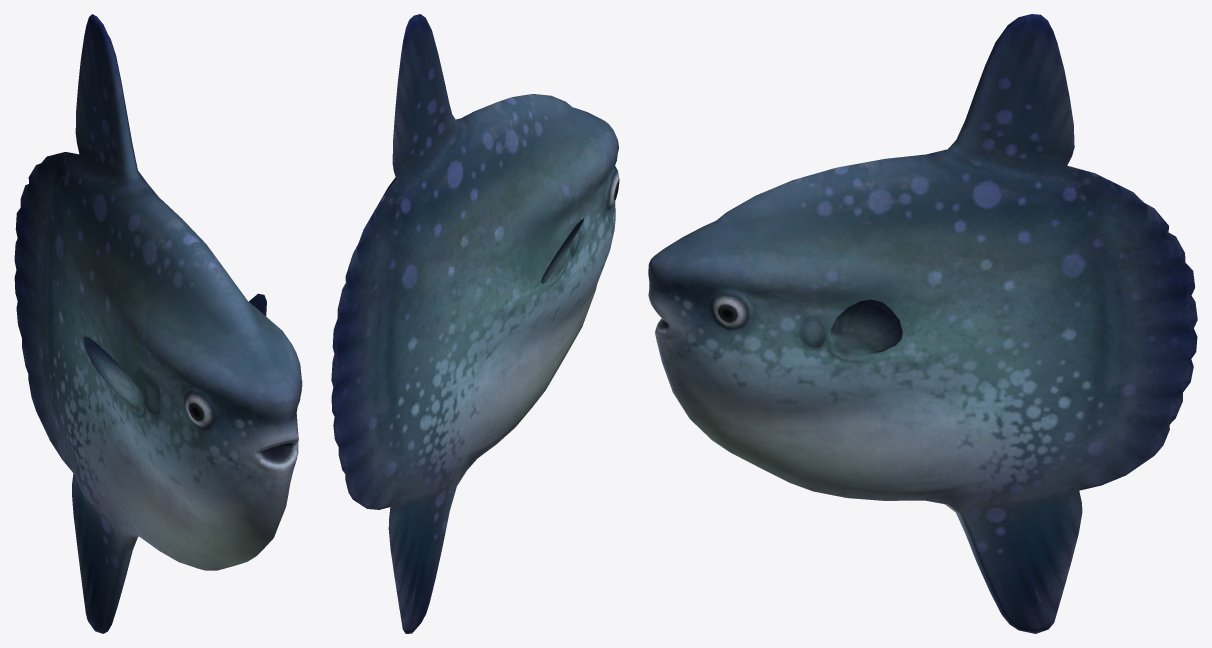
Rendered from OceanSunfish.gltf.
3 renders of one model, left to right at view 1: azimuth 30°, elevation 25°; view 2: azimuth 150°, elevation 25°; view 3: azimuth 270°, elevation 25°, orthographic.
Visible parts, largest first — view 1: FishManbou__mManbou; view 2: FishManbou__mManbou; view 3: FishManbou__mManbou.
Boxes of the visible parts, bbox=[...] form: FishManbou__mManbou: bbox=[14, 14, 302, 633]; FishManbou__mManbou: bbox=[331, 14, 619, 633]; FishManbou__mManbou: bbox=[648, 14, 1197, 633].
Bounding box in the file's own units: 8.74 × 29.43 × 23.64.
Materials: 1 (1 with a texture image).
